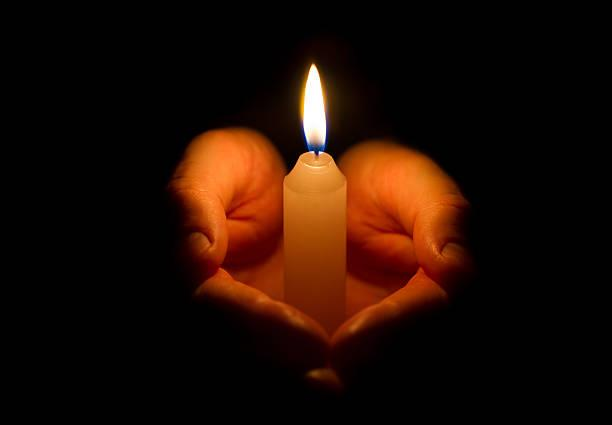Fire: (294, 42, 334, 154)
